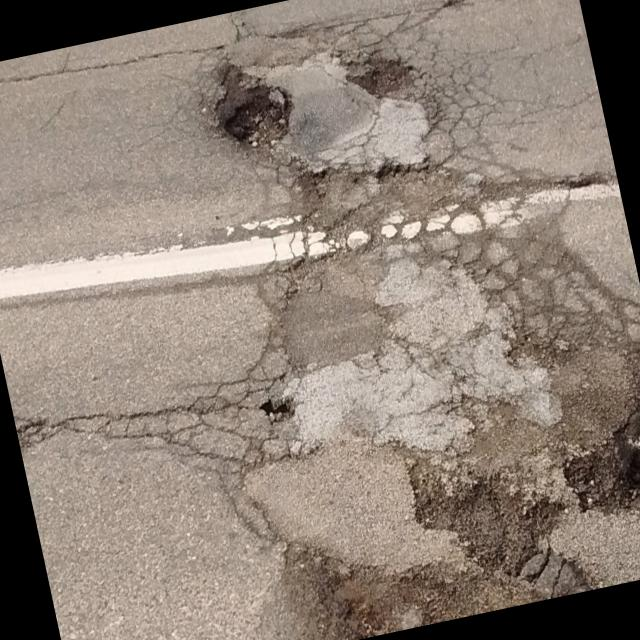Potholes: (361, 335, 640, 627), (196, 15, 428, 195)
